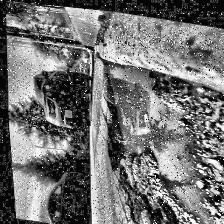pothole: (86, 53, 224, 224)
